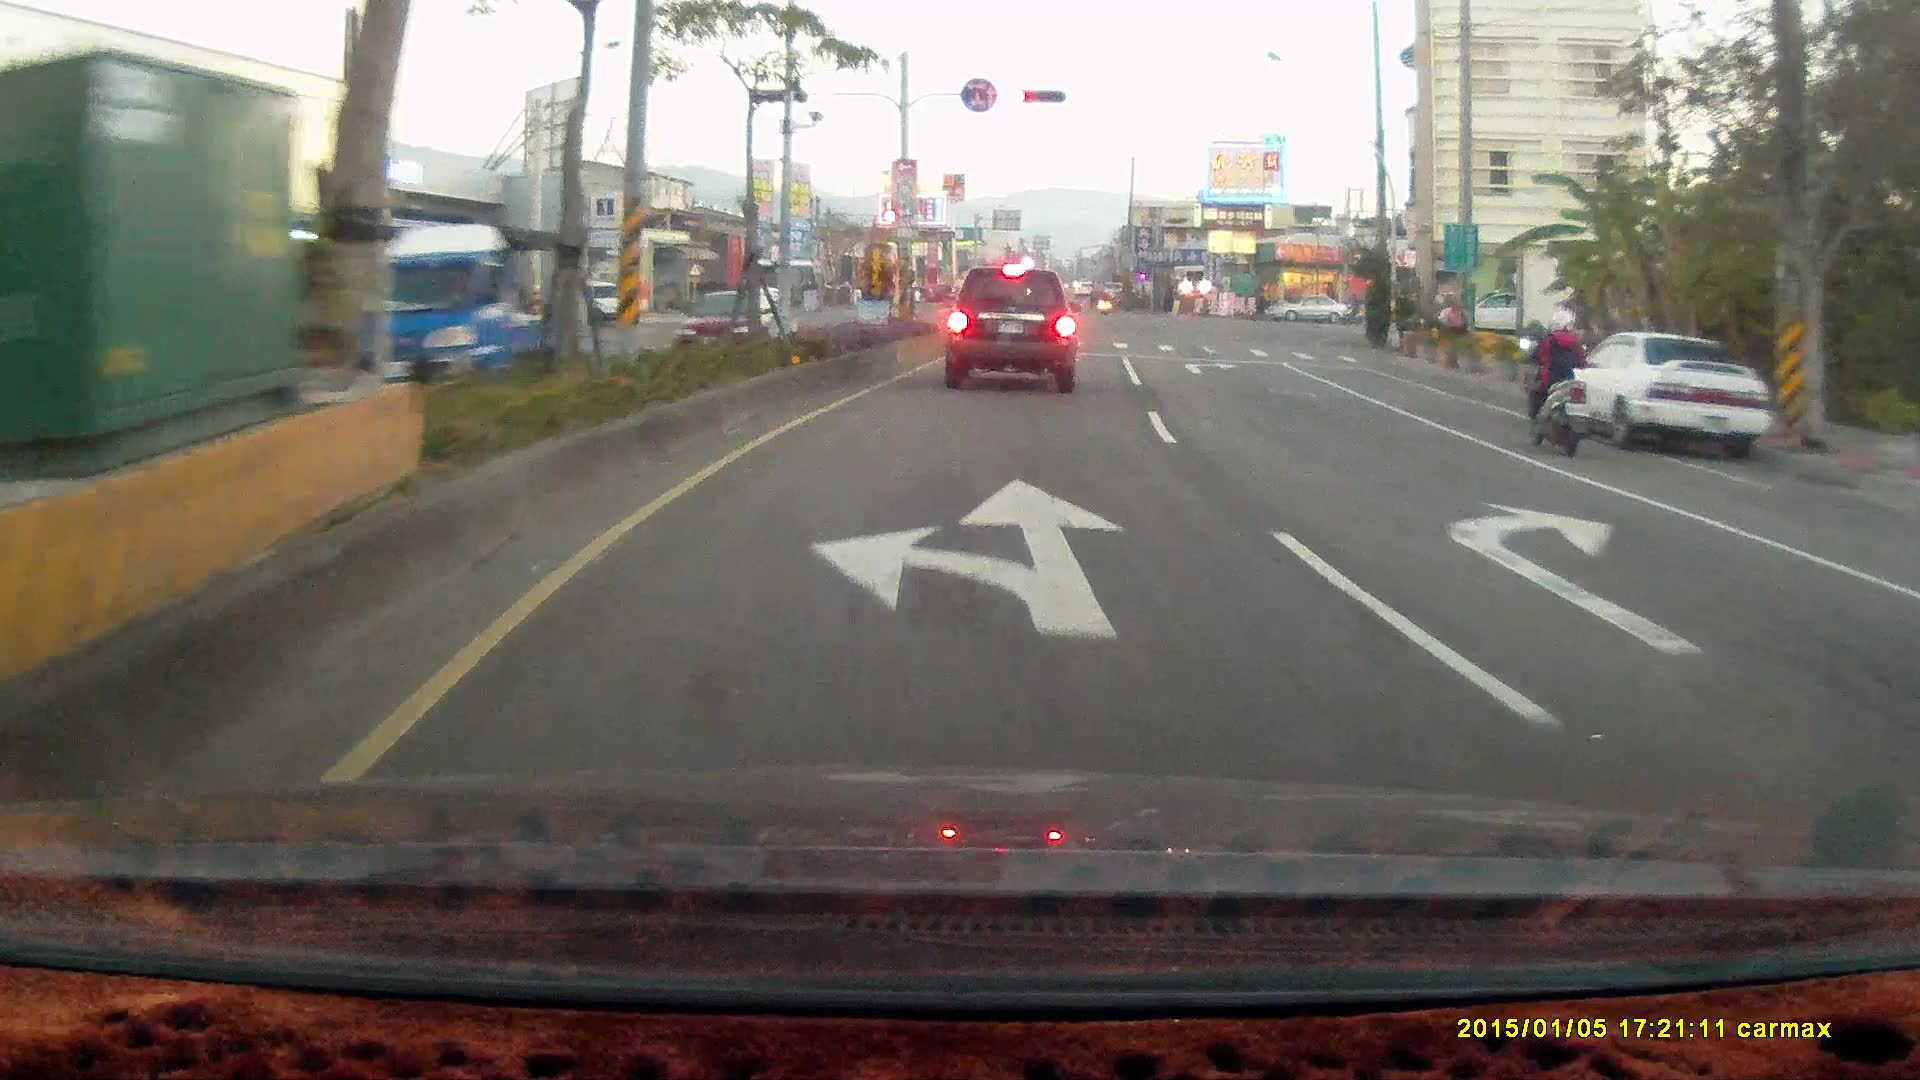rider: (1513, 307, 1594, 456), (1337, 292, 1362, 324)
vehicle: (332, 224, 582, 390), (1546, 326, 1780, 465), (1544, 325, 1776, 460), (941, 265, 1078, 394), (1896, 493, 1920, 836), (1883, 528, 1920, 690), (1439, 287, 1545, 335), (1264, 290, 1350, 323)
